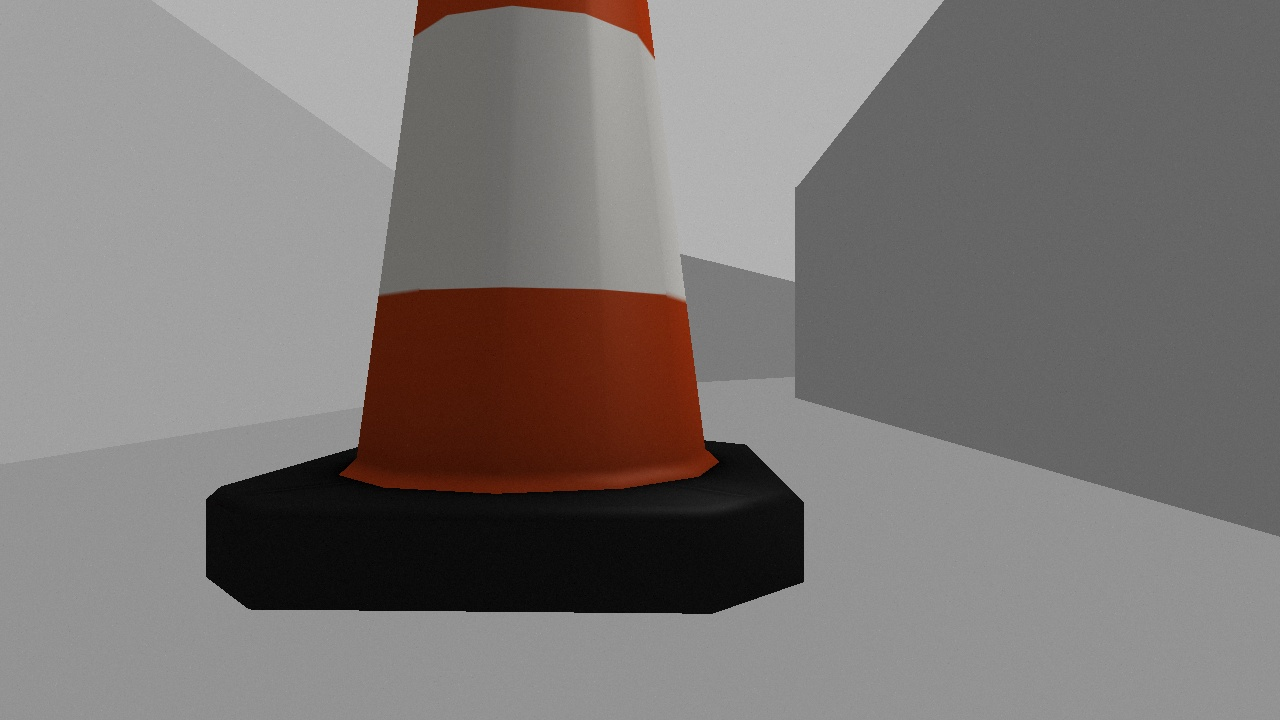barricade: (204, 1, 806, 615)
